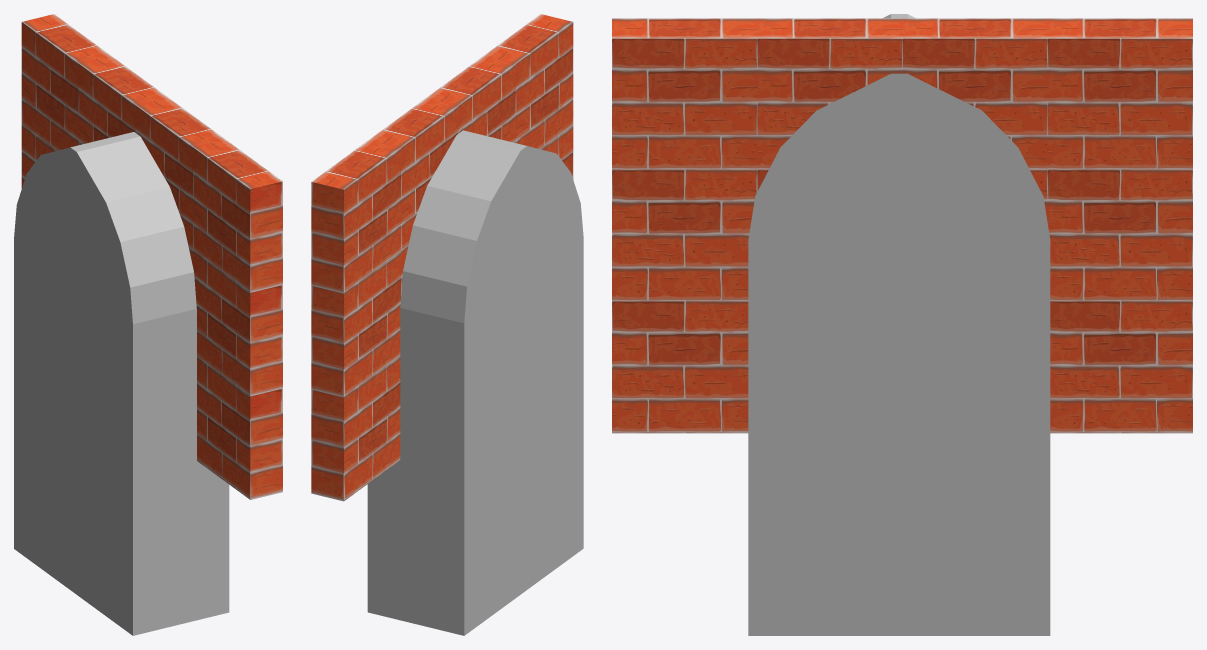
Rendered from BrickGate.fbx.
3 renders of one model, left to right at view 1: azimuth 30°, elevation 25°; view 2: azimuth 150°, elevation 25°; view 3: azimuth 270°, elevation 25°, orthographic. The views are drawn at different scales.
Visible parts, largest first — view 1: Куб, Cube; view 2: Куб, Cube; view 3: Куб, Cube.
Boxes of the visible parts, x1,y1,x2,y2 form: Куб: (14, 132, 229, 635); Cube: (21, 14, 282, 499); Куб: (367, 130, 583, 635); Cube: (311, 14, 573, 501); Куб: (748, 14, 1050, 635); Cube: (612, 18, 1192, 433).
Bounding box in the file's own units: 195 × 908 × 800.
